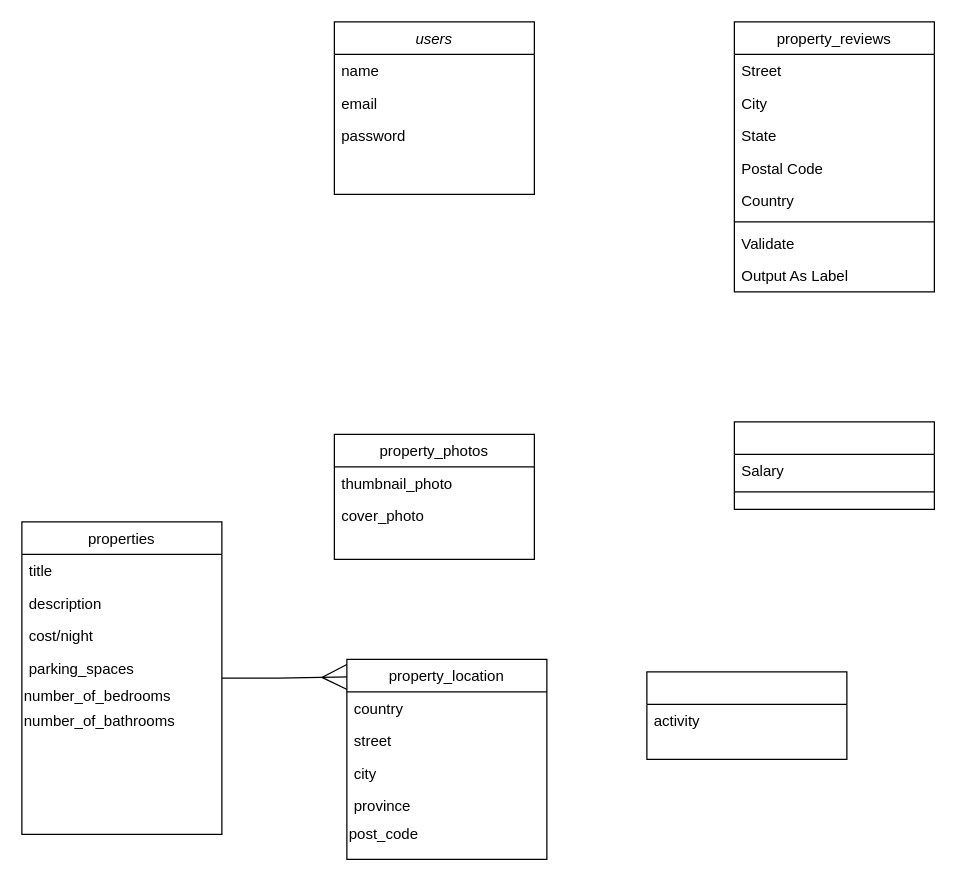
Some shapes in this 956 by 881 pixel diagram are drawn without their labels. The shapes that lost their labels are listed below. From the top down, each one's box as (x1, y1, x2, y2) in pixels, then its label:
(733, 421, 934, 509): reservations
(646, 671, 847, 759): property_activity
